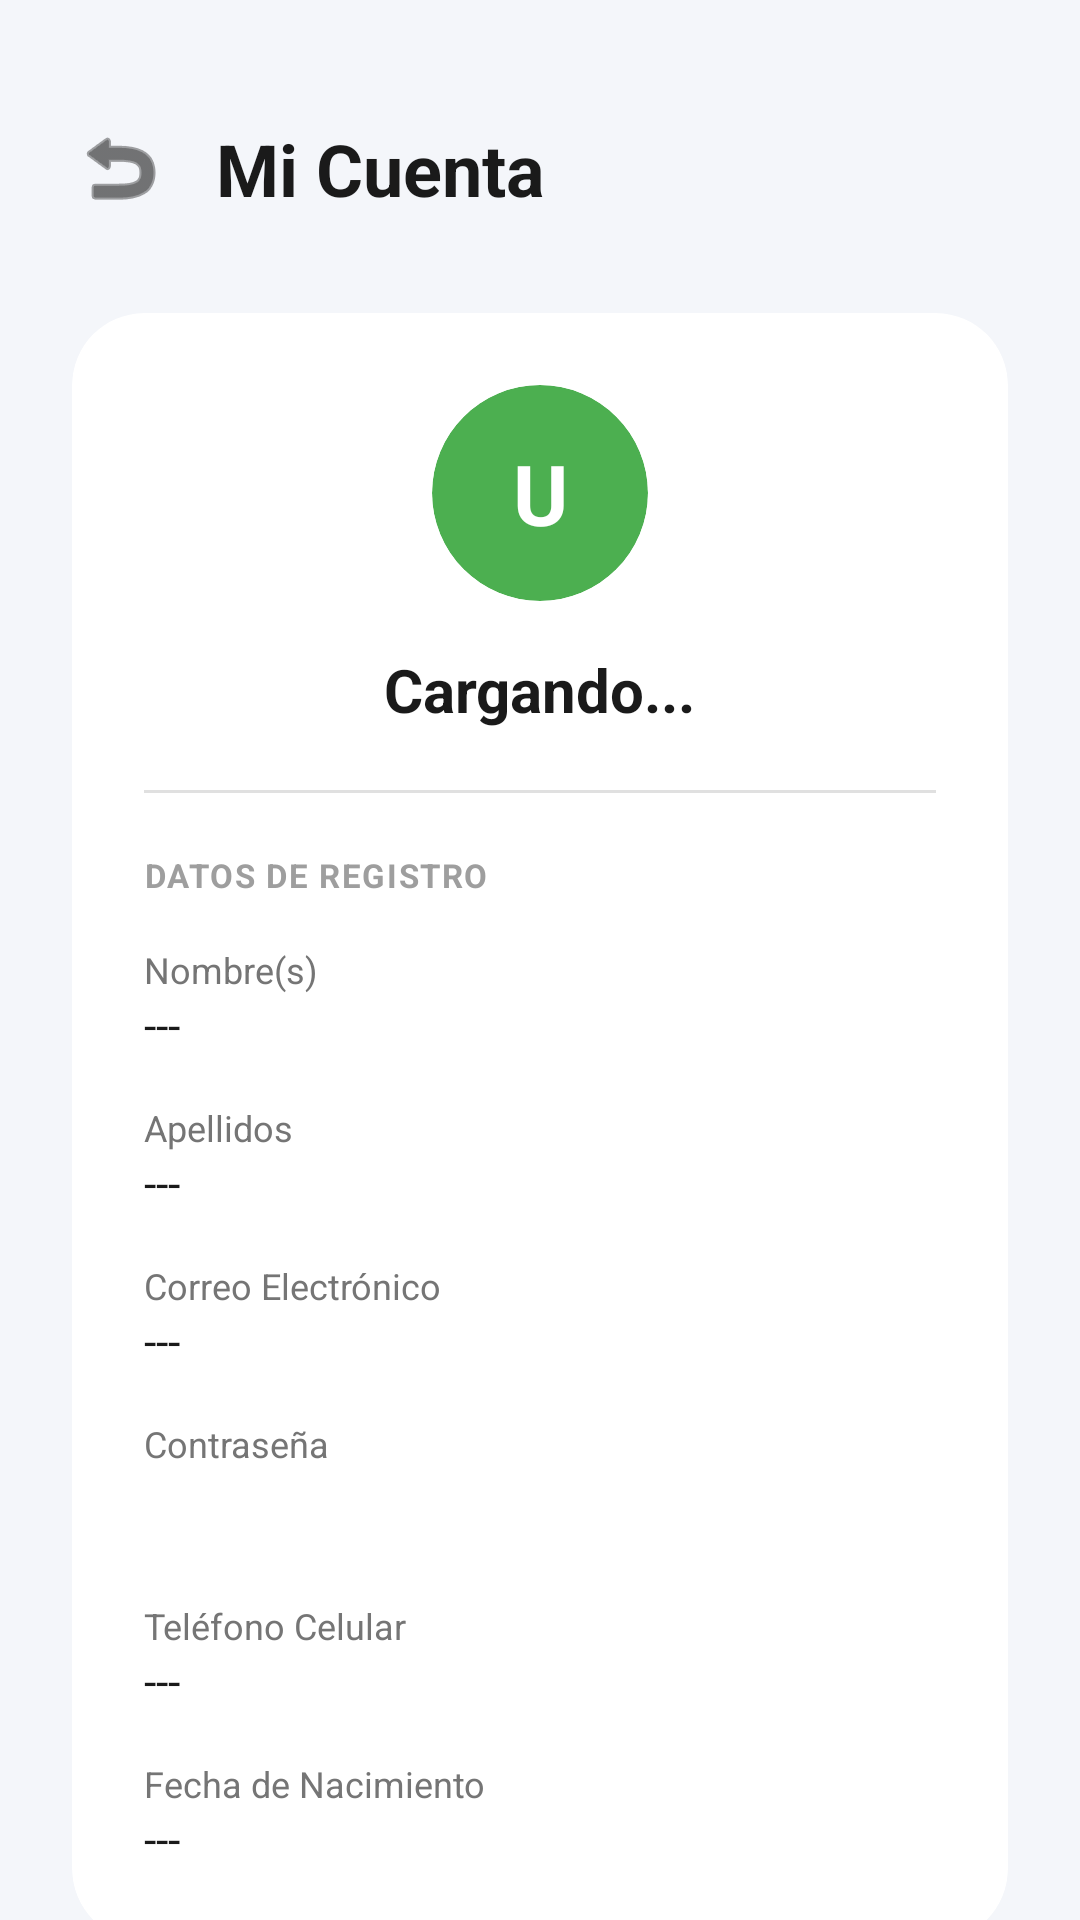

Locate icon controls on the screen. Image size 1080w x 1920h, boxes as {"left": x1, "top": y1, "right": x2, "bottom": y2}.
revert: {"left": 87, "top": 137, "right": 156, "bottom": 200}
